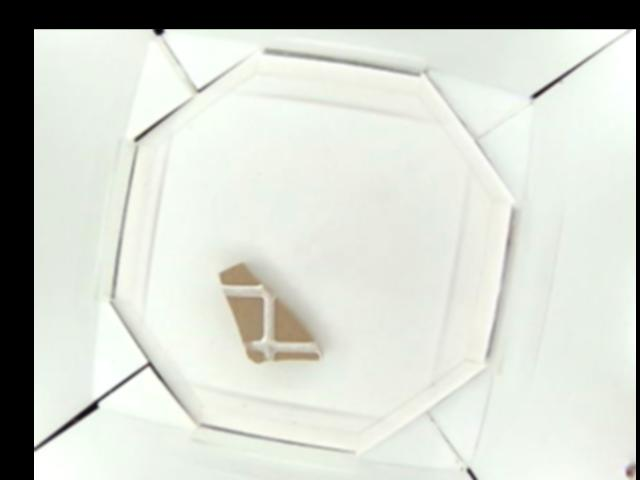China: (217, 263, 319, 364)
